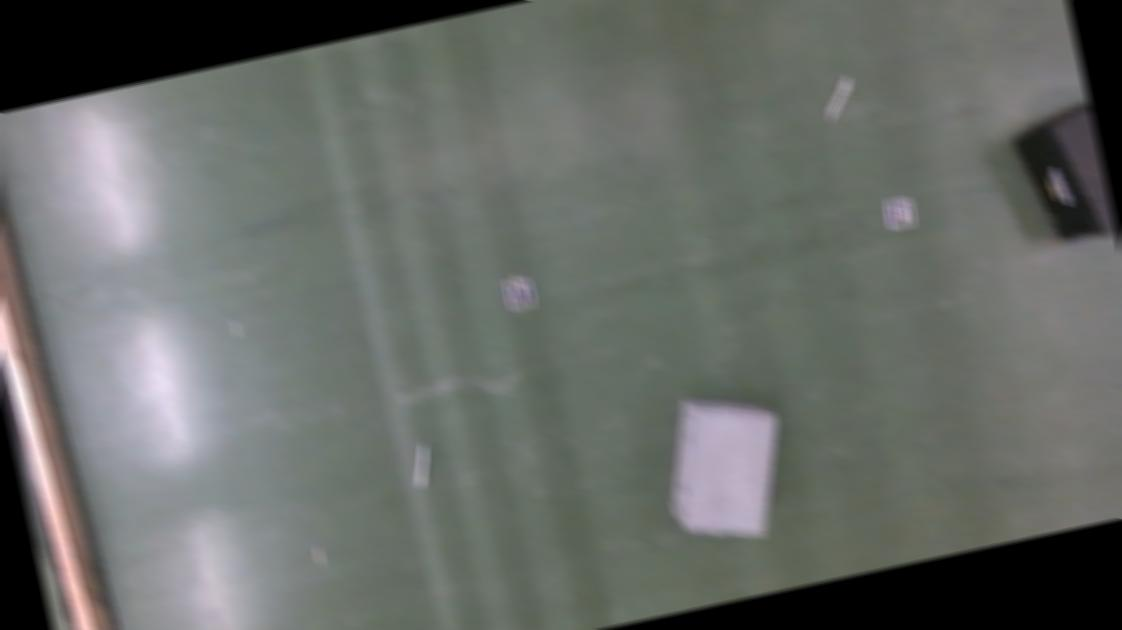probes: (1008, 102, 1118, 252)
rako: (820, 74, 860, 122), (408, 441, 437, 490)
